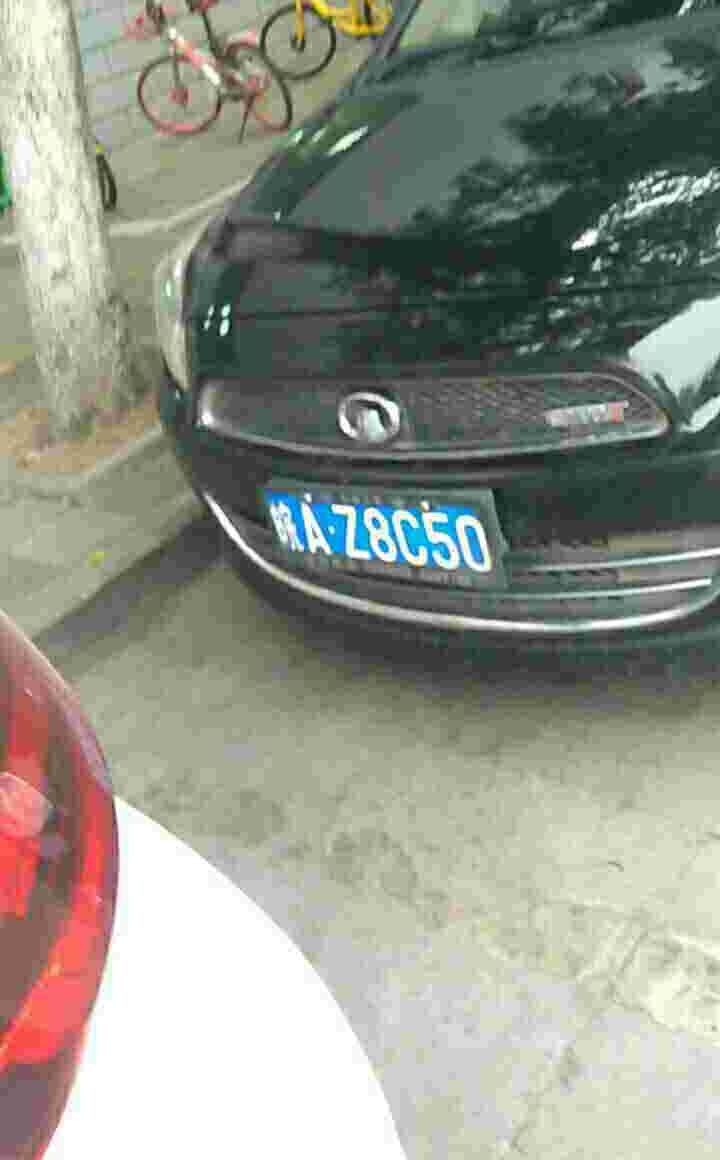license_plate: (268, 502, 487, 572)
